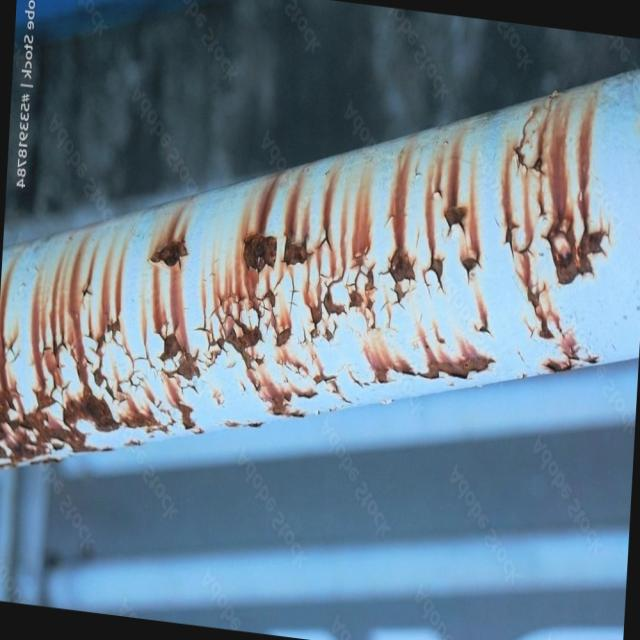rust: (0, 0, 639, 554)
